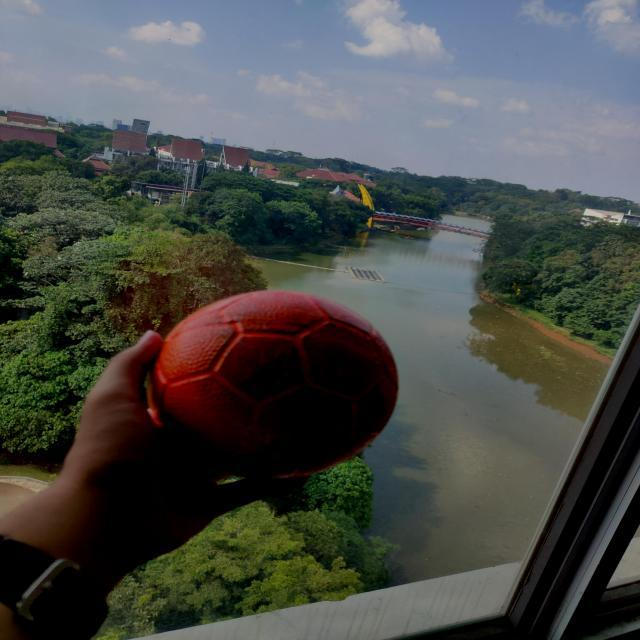bola: (145, 286, 406, 485)
